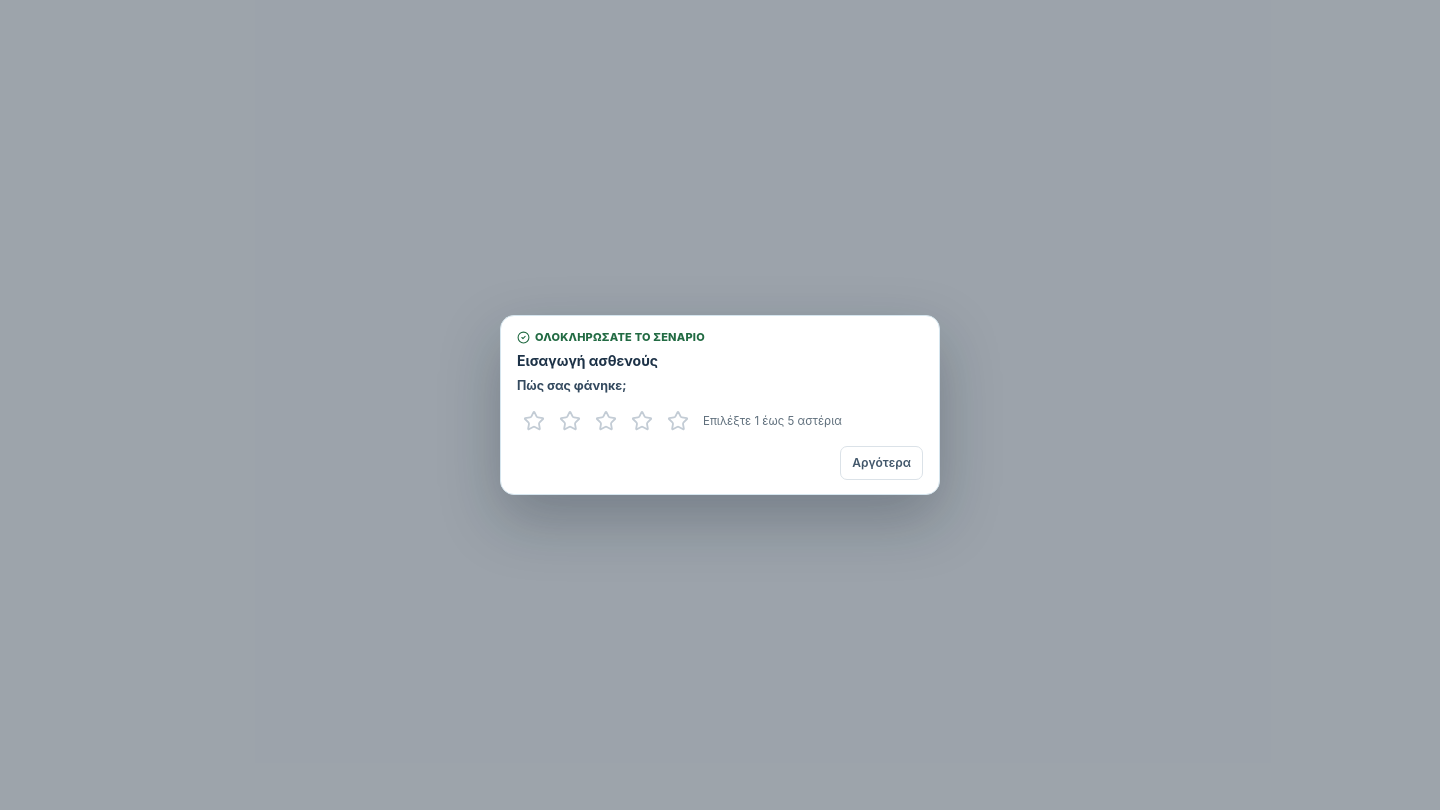
Test case: Demo scenario rating card › keeps the card and says so when the rating is not sent
This screenshot has width=1440, height=810.
Click the radio button named "1 – Καθόλου χρήσιμο" at (534, 421), box x1=517 y1=404 x2=551 y2=438
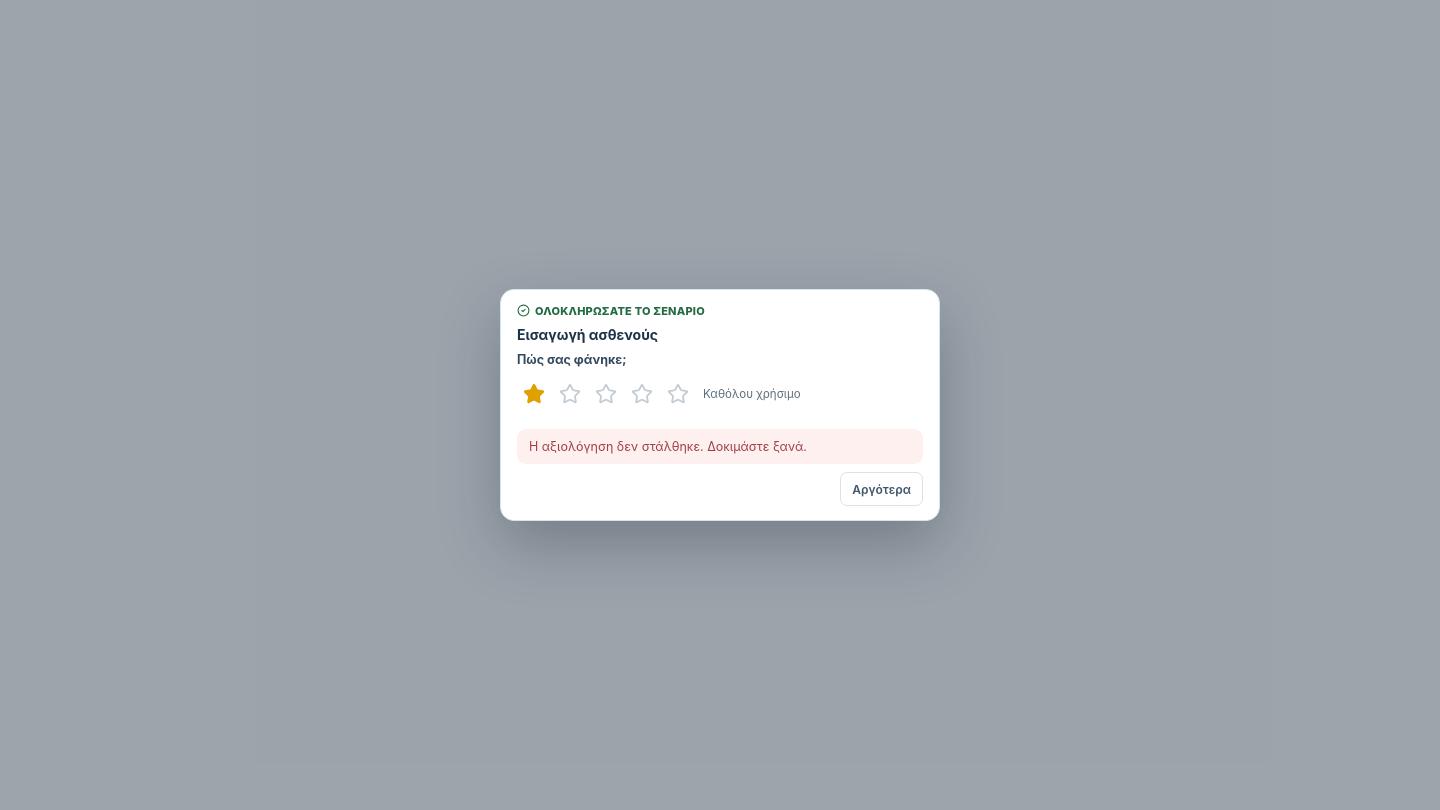
Now the message "Η αξιολόγηση δεν στάλθηκε. Δοκιμάστε ξανά." is shown, box x1=517 y1=429 x2=923 y2=464
